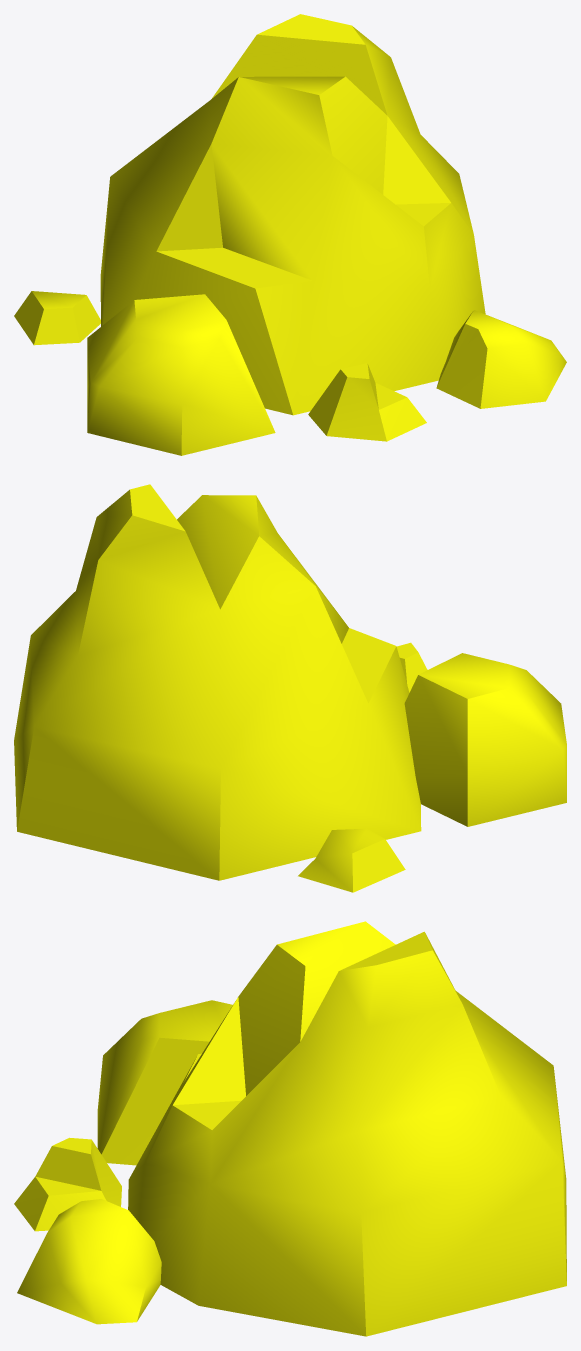
The model's file is kaykit-rocks-b.glb.
3 views of the same model, one above another, from view 1: azimuth 30°, elevation 25°; view 2: azimuth 150°, elevation 25°; view 3: azimuth 270°, elevation 25° (orthographic). The views are drawn at different scales.
Visible parts, largest first — view 1: rocks_B; view 2: rocks_B; view 3: rocks_B.
Boxes of the visible parts, x1,y1,x2,y2 form: rocks_B: [14, 14, 566, 455]; rocks_B: [14, 484, 566, 892]; rocks_B: [14, 921, 566, 1336].
Bounding box in the file's own units: 1.88 × 1.07 × 1.74.
